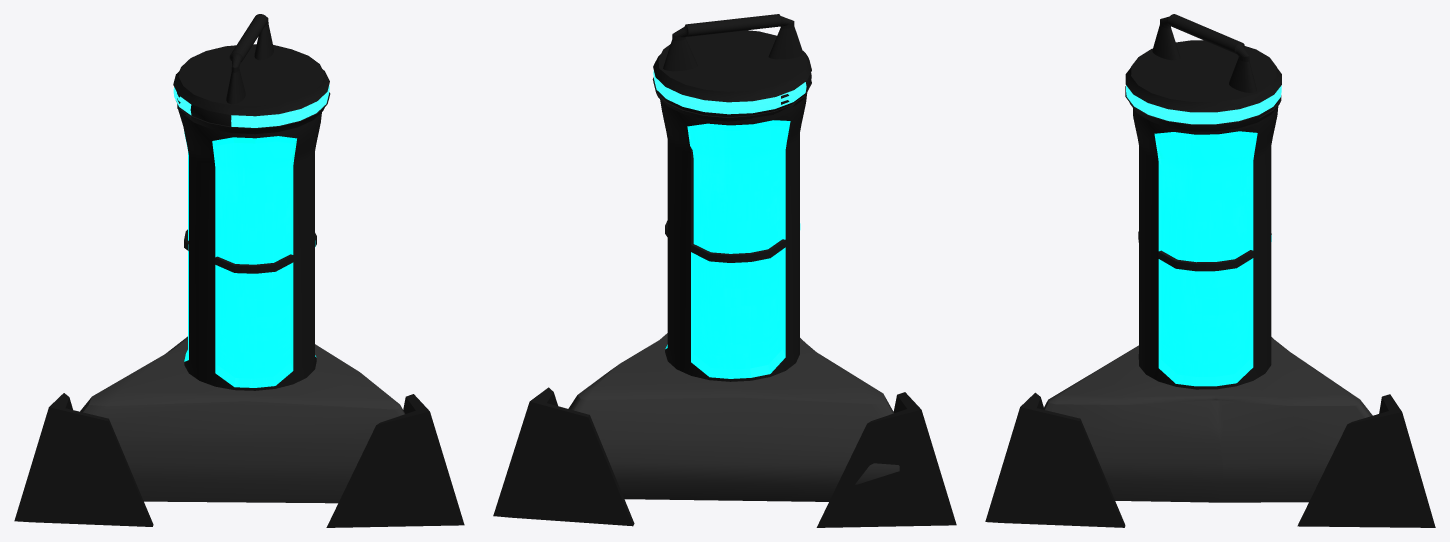
The model's file is valorant_spike.glb.
The picture shows the model from 3 angles, left to right: view 1: azimuth 30°, elevation 25°; view 2: azimuth 150°, elevation 25°; view 3: azimuth 270°, elevation 25°; orthographic projection.
Visible parts, largest first — view 1: pCylinder1, pCube1, pCube2, pasted__pPyramid1, pPyramid1; view 2: pCube1, pCylinder1, pasted__pPyramid1 (×2), pCube2; view 3: pCylinder1, pCube1, pCube2, pPyramid1, pasted__pPyramid1.
Boxes of the visible parts, bbox=[...] form: pCylinder1: bbox=[177, 104, 321, 390]; pCube1: bbox=[80, 336, 404, 503]; pCube2: bbox=[173, 14, 330, 134]; pasted__pPyramid1: bbox=[14, 393, 153, 526]; pPyramid1: bbox=[326, 394, 464, 527]; pCube1: bbox=[568, 333, 899, 501]; pCylinder1: bbox=[660, 93, 807, 381]; pasted__pPyramid1 (×2): bbox=[493, 387, 956, 527]; pCube2: bbox=[652, 14, 811, 121]; pCylinder1: bbox=[1133, 106, 1278, 389]; pCube1: bbox=[1043, 337, 1372, 502]; pCube2: bbox=[1125, 14, 1281, 131]; pPyramid1: bbox=[985, 392, 1125, 527]; pasted__pPyramid1: bbox=[1297, 394, 1435, 527].
Size of the model in its own units: 2.68 by 3.25 by 2.97.
7 materials, 2 textured.
